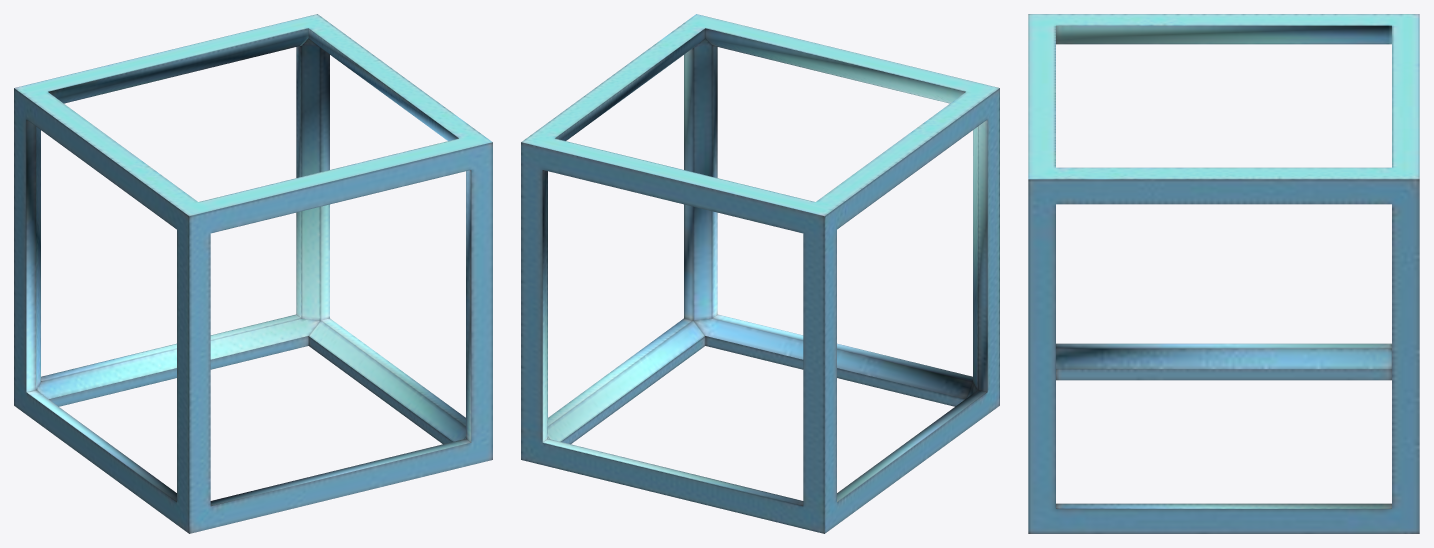
File: cube_cage.obj
3 views of the same model, side by side, from view 1: azimuth 30°, elevation 25°; view 2: azimuth 150°, elevation 25°; view 3: azimuth 270°, elevation 25° (orthographic). The views are drawn at different scales.
Visible parts, largest first — view 1: Box028; view 2: Box028; view 3: Box028.
Part boxes in pixels (x1,y1,x2,y2): Box028: (14,14,492,533); Box028: (521,14,999,533); Box028: (1028,14,1419,533).
Bounding box in the file's own units: 25 × 25 × 25.
Materials: 1 (1 with a texture image).
